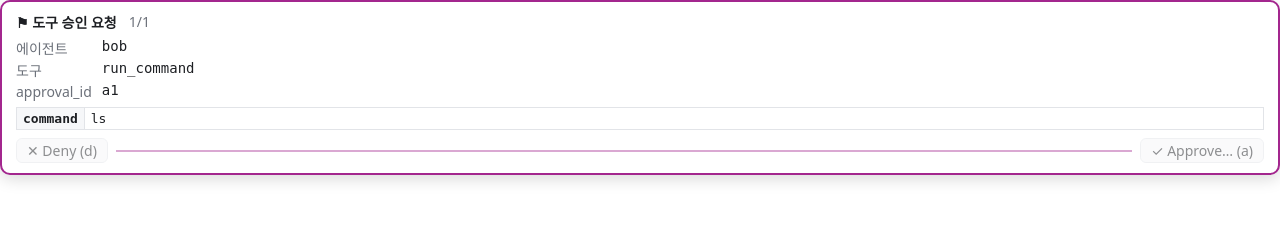
it: clicks: locked right after appearing; Approve needs a second, separate click after its own lock
Later steps or results of the test are not shown.
What coordinates should you click on to do the following:
click the button "✓ Approve… (a)"
I would click on:
 (1202, 150)
Its box is left=1140, top=138, right=1264, bottom=163.
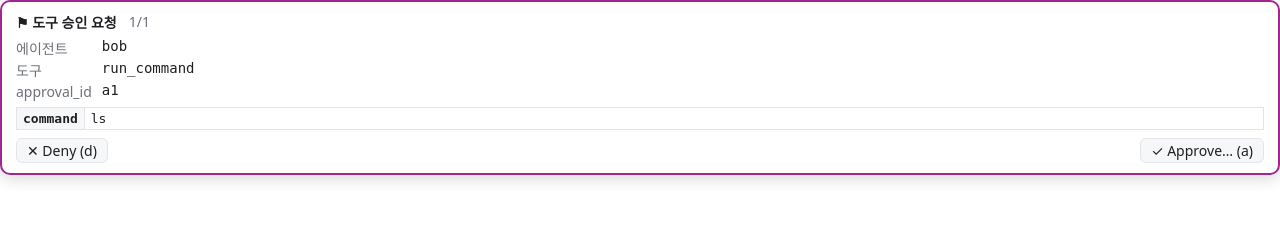
What coordinates should you click on to do the following:
click the button "✓ Approve… (a)"
I would click on:
 (1202, 150)
Its box is left=1140, top=138, right=1264, bottom=163.
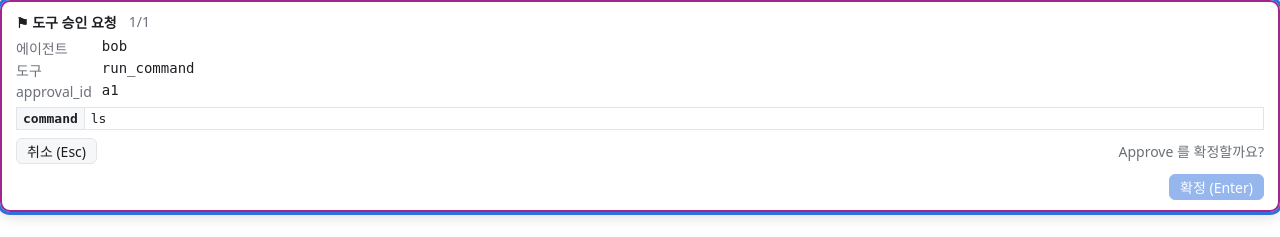
expect the element with class "confirm-row" is shown: met
expect the button "확정 (Enter)" is shown: met
What coordinates should you click on to do the following:
click the button "확정 (Enter)"
I would click on:
 (1216, 187)
Its box is left=1169, top=174, right=1264, bottom=200.
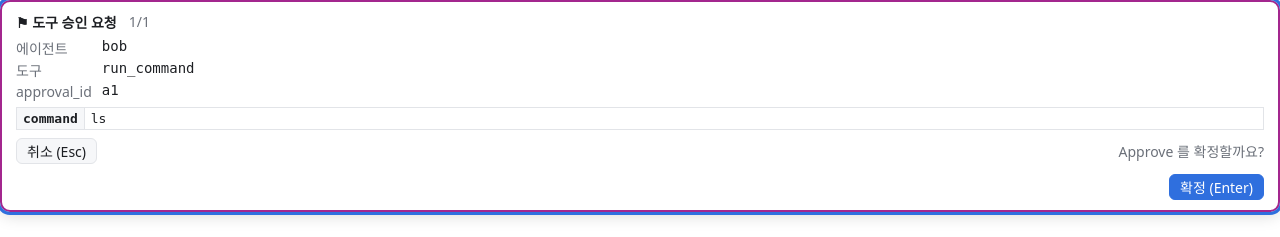
expect the button "확정 (Enter)" is shown: met, box left=1169, top=174, right=1264, bottom=200
